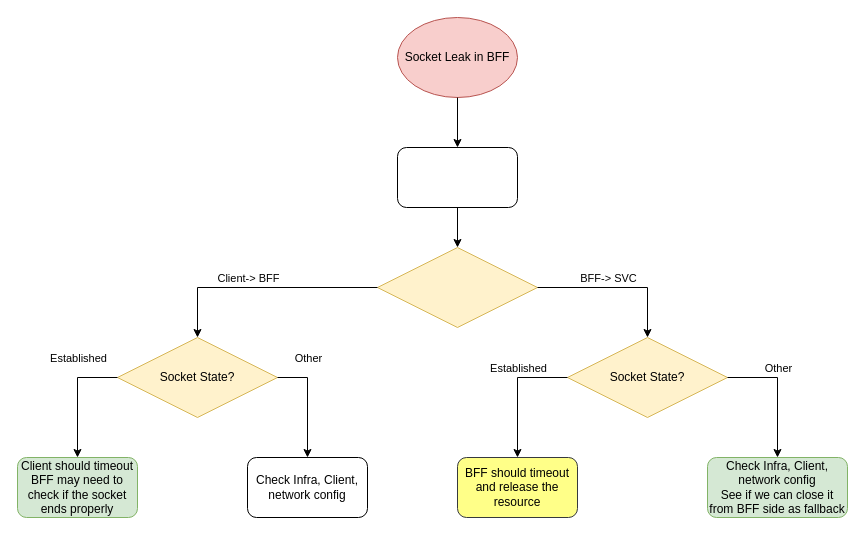
This 865x535 diagram has some shape labels left out. The shapes that lost their labels are listed below. From the top down, each one's centre as x and y in pixels, then its label:
At point 457,177: "Get socket consumptions for BFF and SVC".
At point 457,287: "Client -> BFF? or BFF->SVC?".
